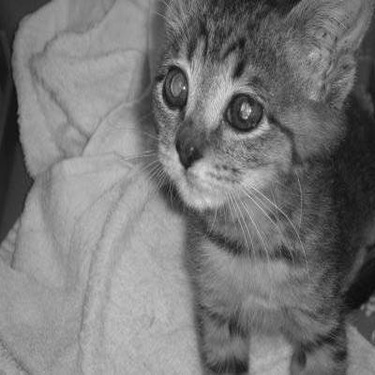cat: (132, 1, 368, 362)
